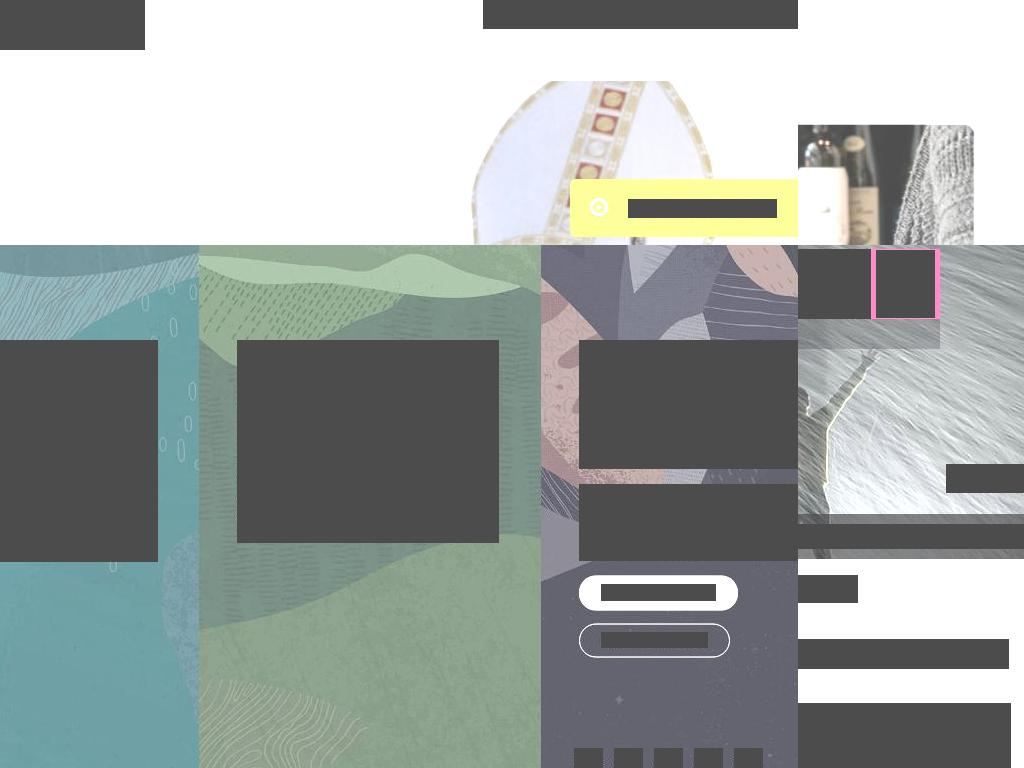button: (237, 340, 499, 543), (0, 340, 158, 562), (798, 703, 1011, 768), (798, 639, 1009, 669), (798, 249, 871, 319), (946, 464, 1024, 493), (574, 748, 603, 768), (614, 748, 643, 768), (654, 748, 683, 768), (694, 748, 723, 768), (734, 748, 763, 768)
field: (483, 0, 798, 29)
heading: (579, 340, 798, 469), (237, 372, 499, 410), (0, 372, 158, 410), (798, 524, 1024, 549), (237, 340, 301, 373), (0, 340, 30, 373)
image: (798, 703, 1011, 768), (0, 0, 145, 50), (876, 250, 935, 318), (999, 464, 1024, 493)
link: (601, 584, 716, 601), (601, 632, 708, 648), (798, 276, 846, 294), (946, 479, 989, 491), (574, 755, 603, 766), (614, 755, 643, 766), (654, 755, 683, 766), (694, 755, 723, 766), (734, 755, 763, 766)
text: (237, 450, 499, 527), (579, 484, 798, 561), (0, 450, 158, 546), (237, 425, 499, 445), (0, 425, 158, 445), (628, 199, 777, 218), (946, 467, 989, 478)
